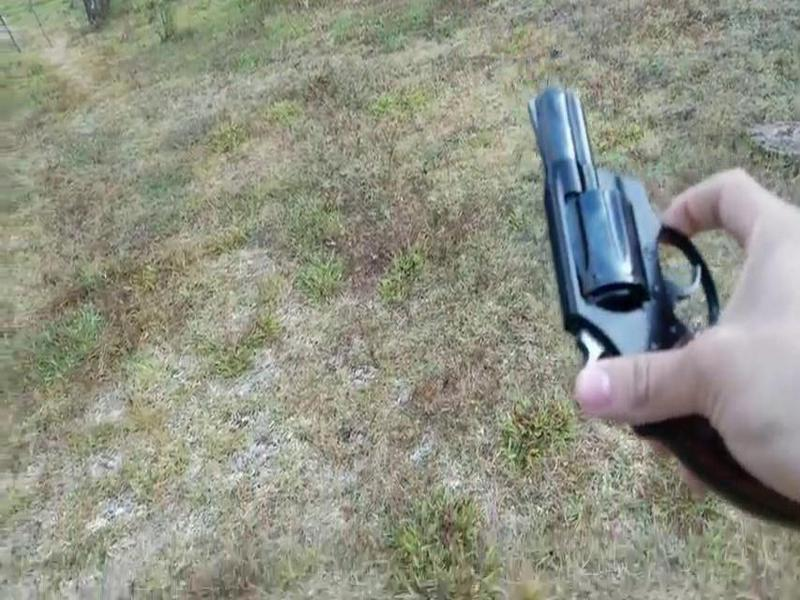Revolver: (481, 55, 746, 472)
